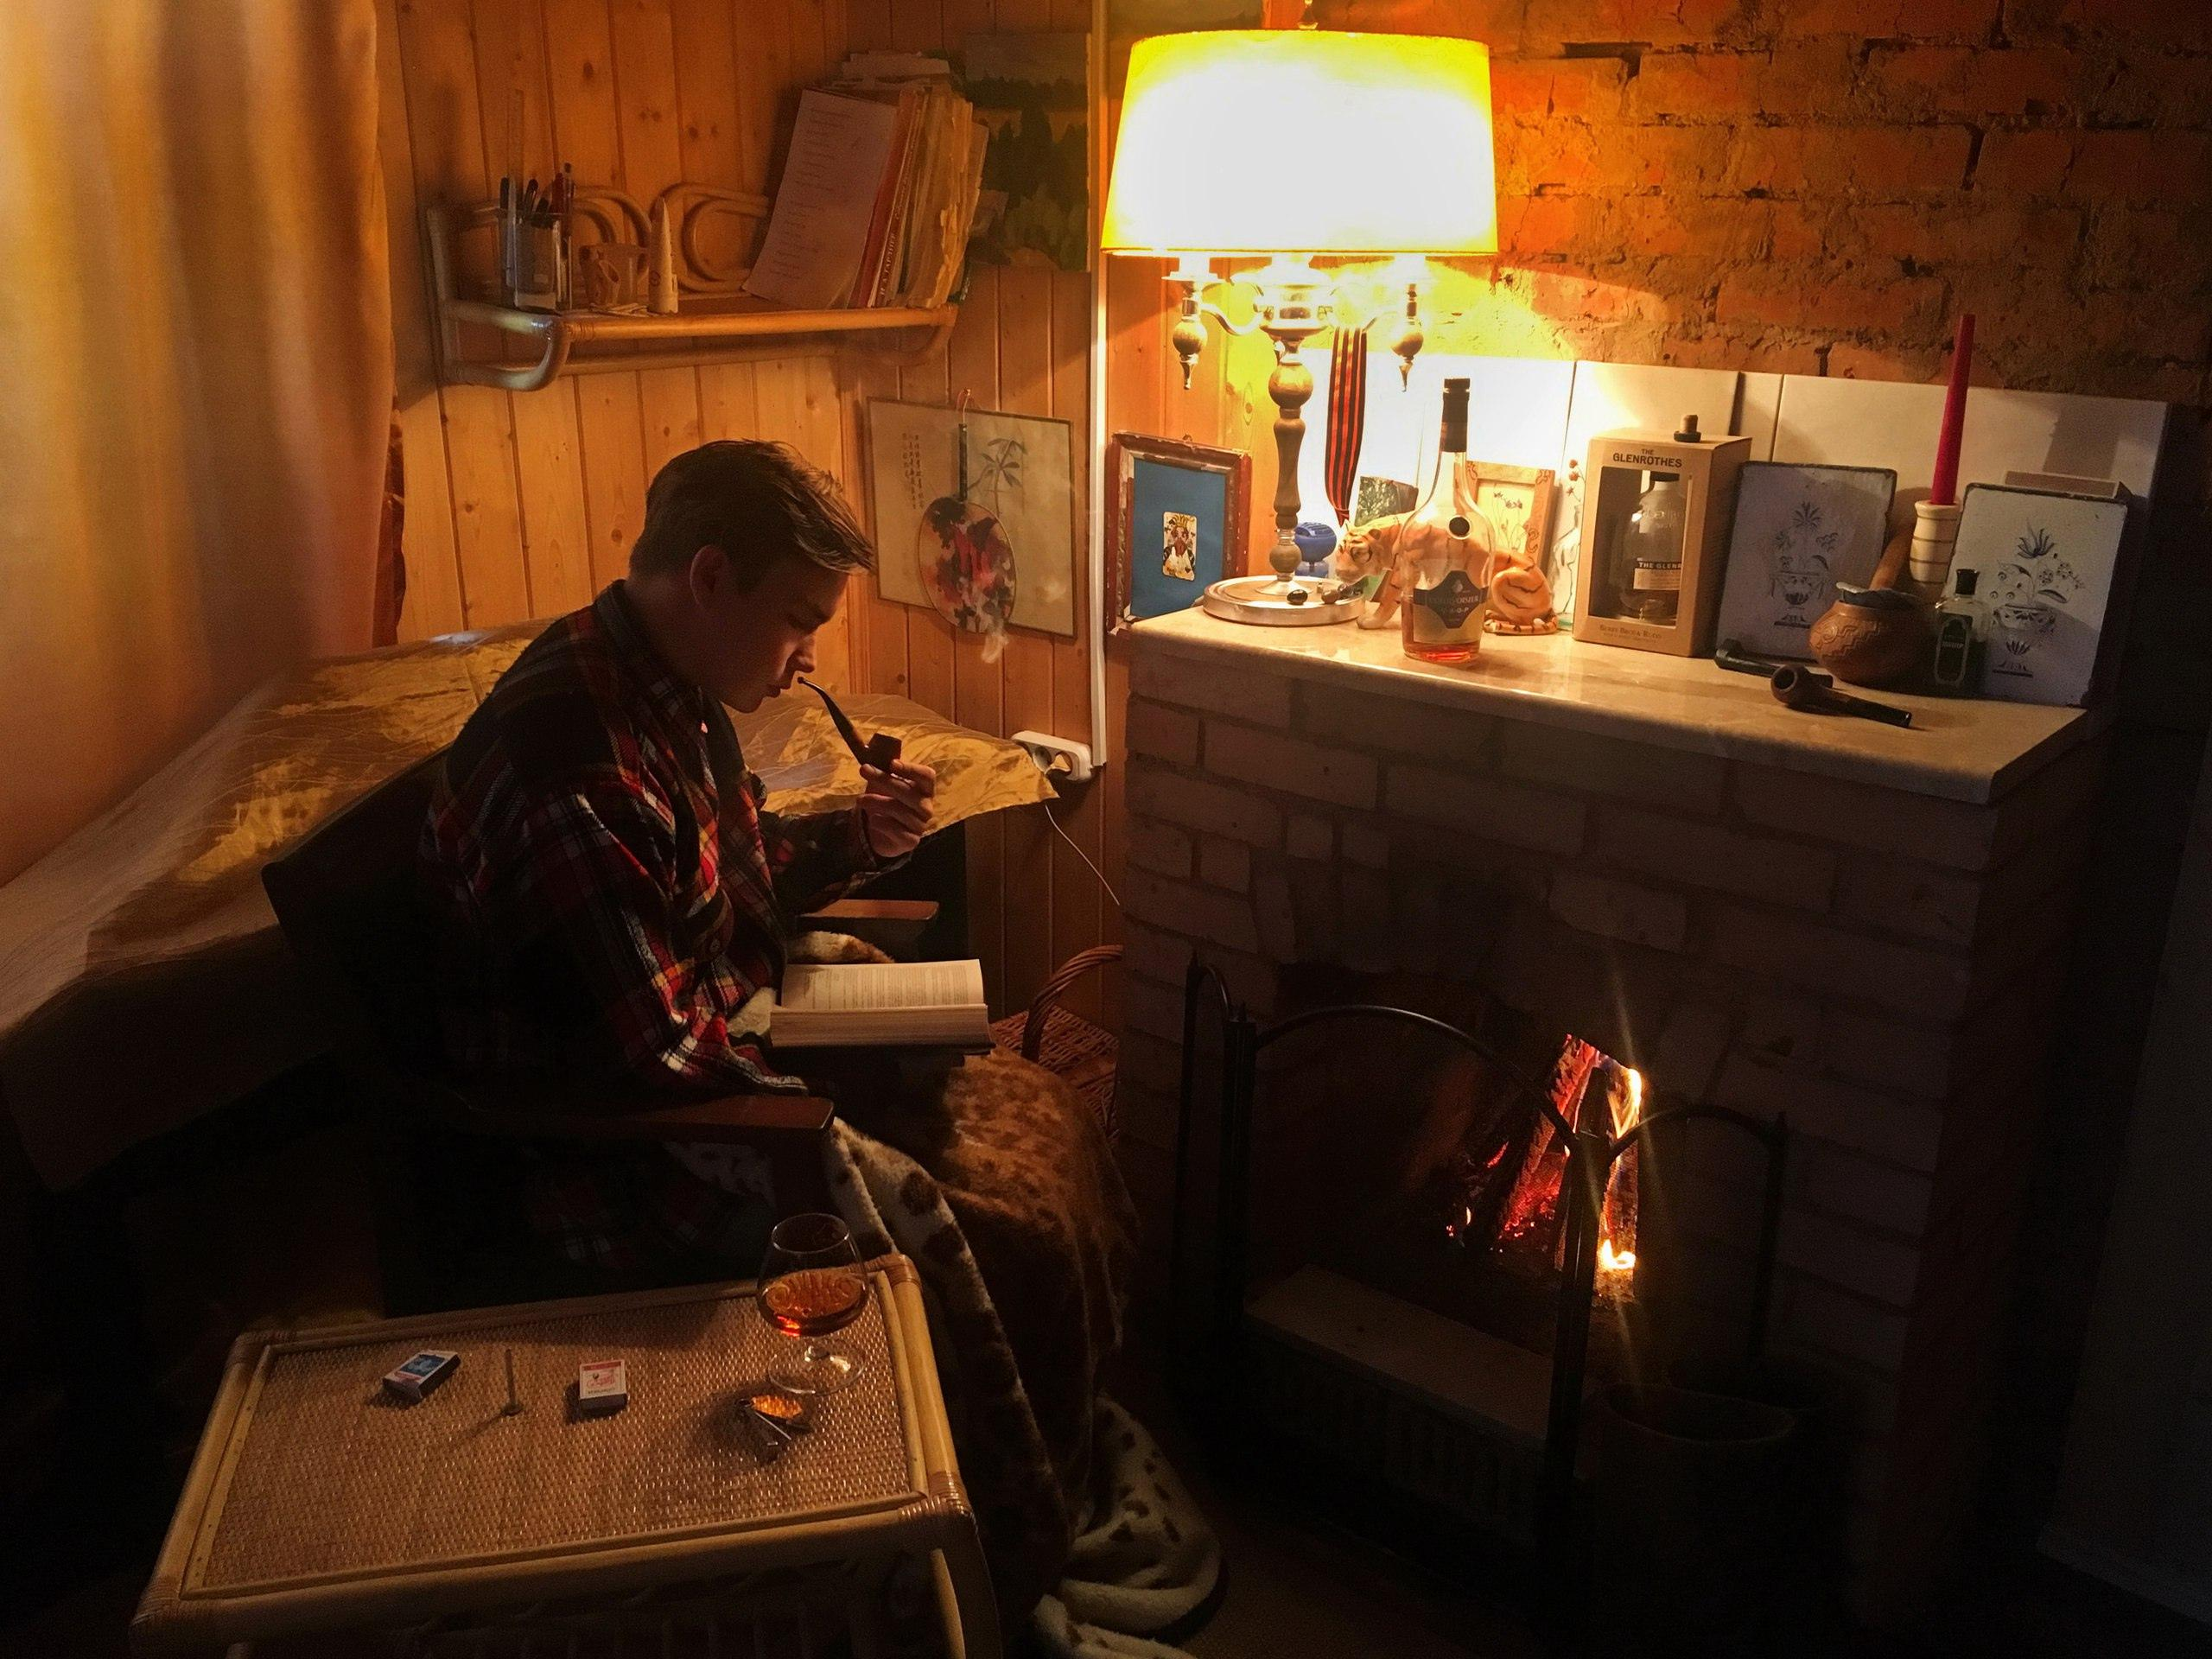trubka: (798, 676, 902, 774)
